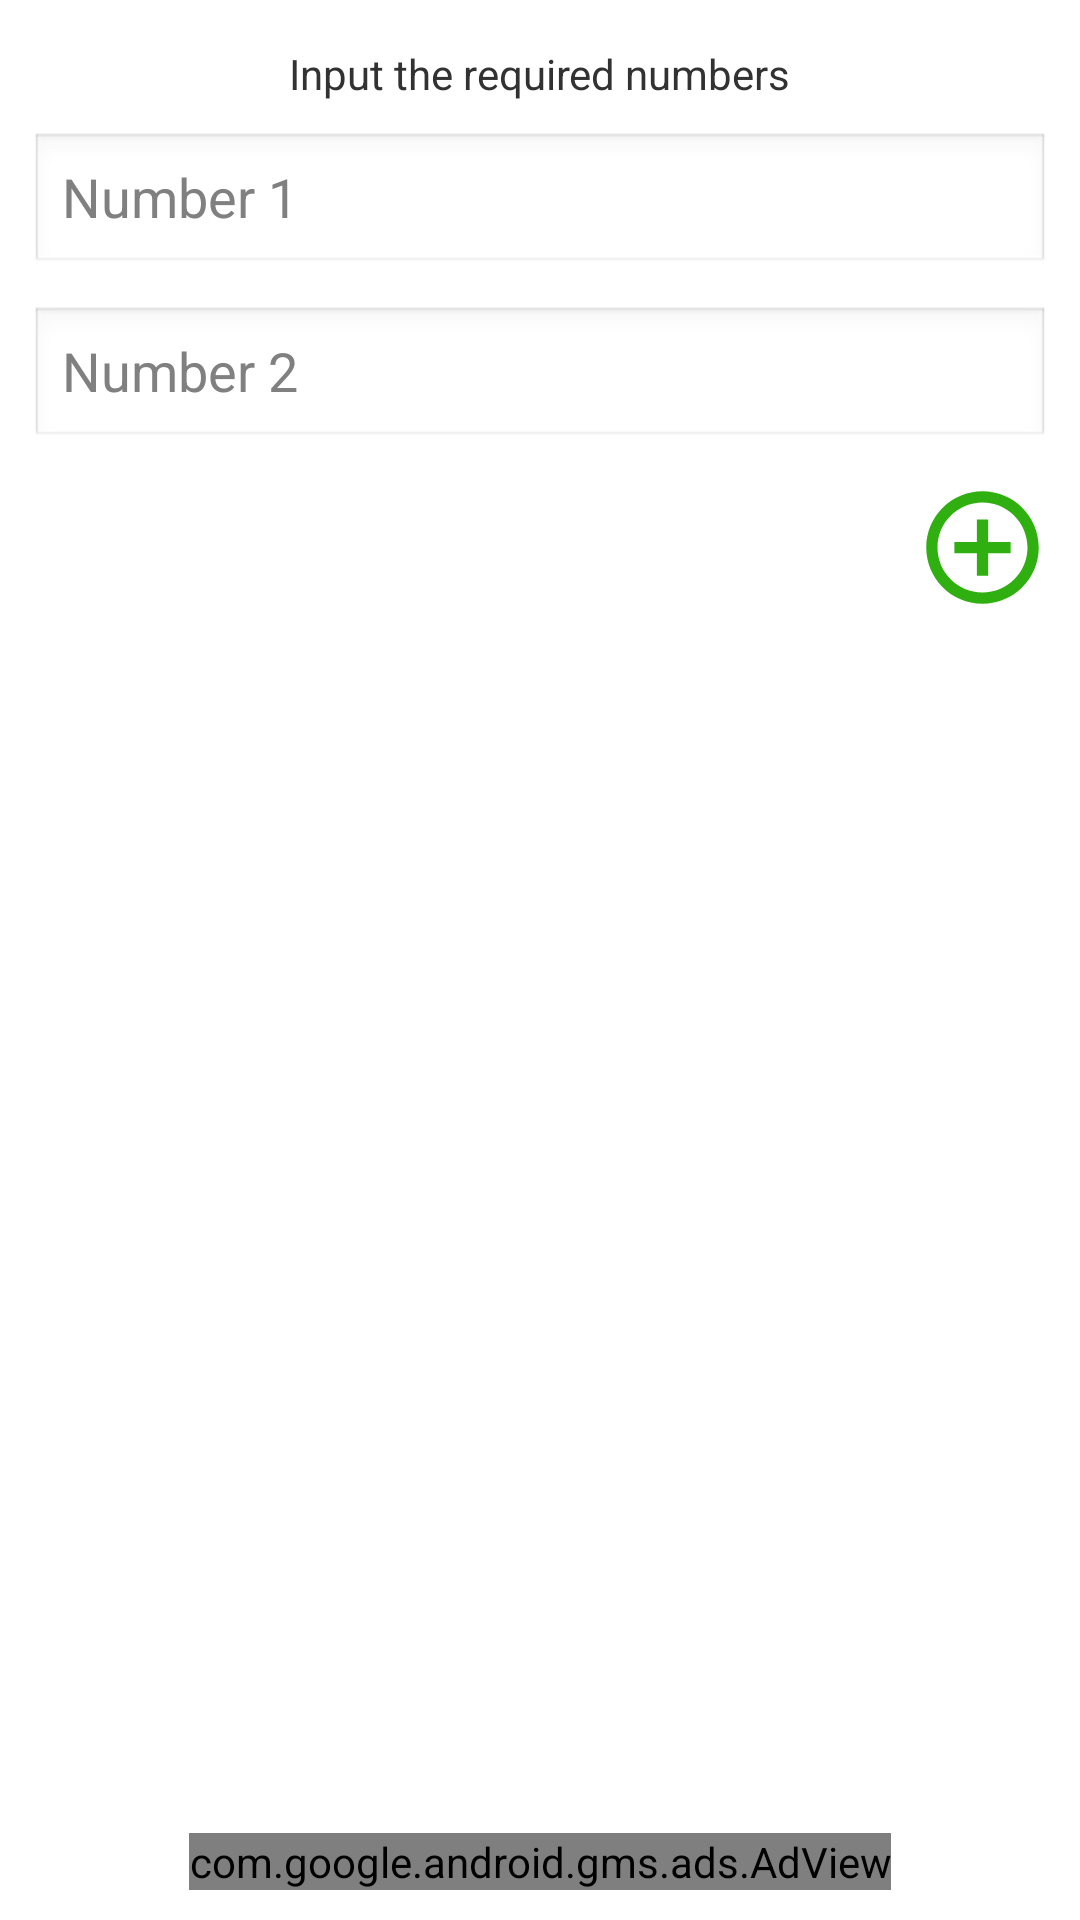

Named icons in this screenshot (1080x1920) and their bounding boxes, (x1, y1, x2, y2):
add circle: (926, 491, 1039, 604)
